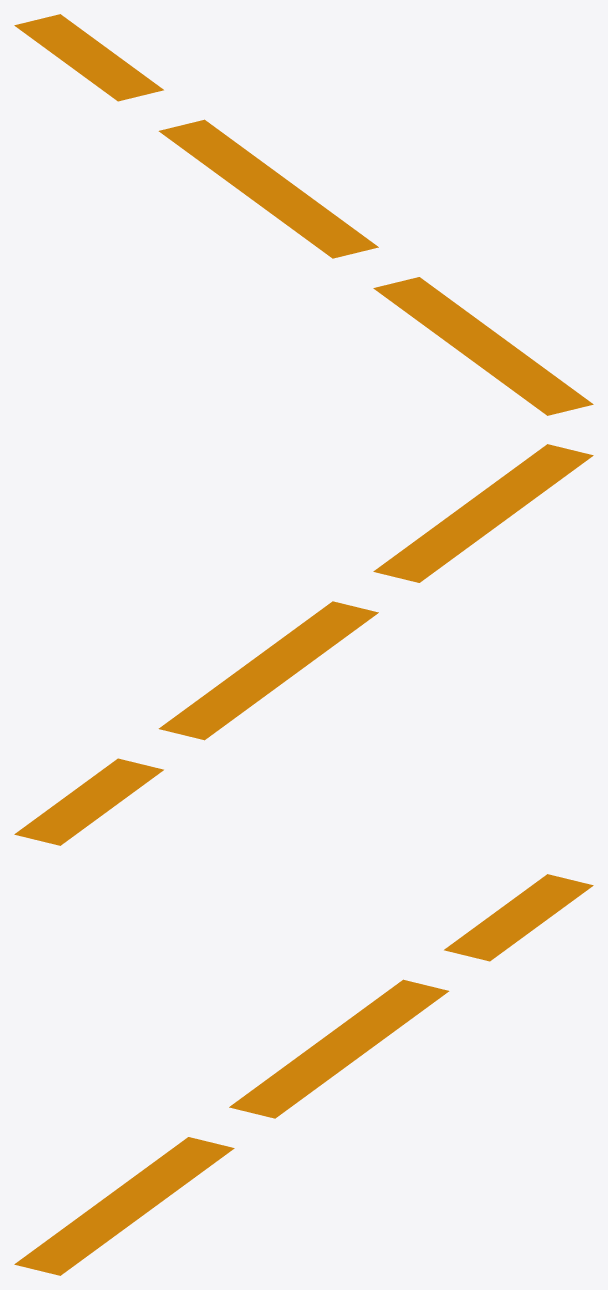
Rendered from Dead End Skinny Lines.fbx.
3 renders of one model, top to bottom at view 1: azimuth 30°, elevation 25°; view 2: azimuth 150°, elevation 25°; view 3: azimuth 330°, elevation 25°, orthographic.
Parts seen in each view (by area): view 1: Dead End Skinny Lines; view 2: Dead End Skinny Lines; view 3: Dead End Skinny Lines.
Boxes of the visible parts, x1,y1,x2,y2 form: Dead End Skinny Lines: (14,14,593,415); Dead End Skinny Lines: (14,444,593,845); Dead End Skinny Lines: (14,874,593,1275).
Size of the model in its own units: 0.1 by 0 by 1.99.
